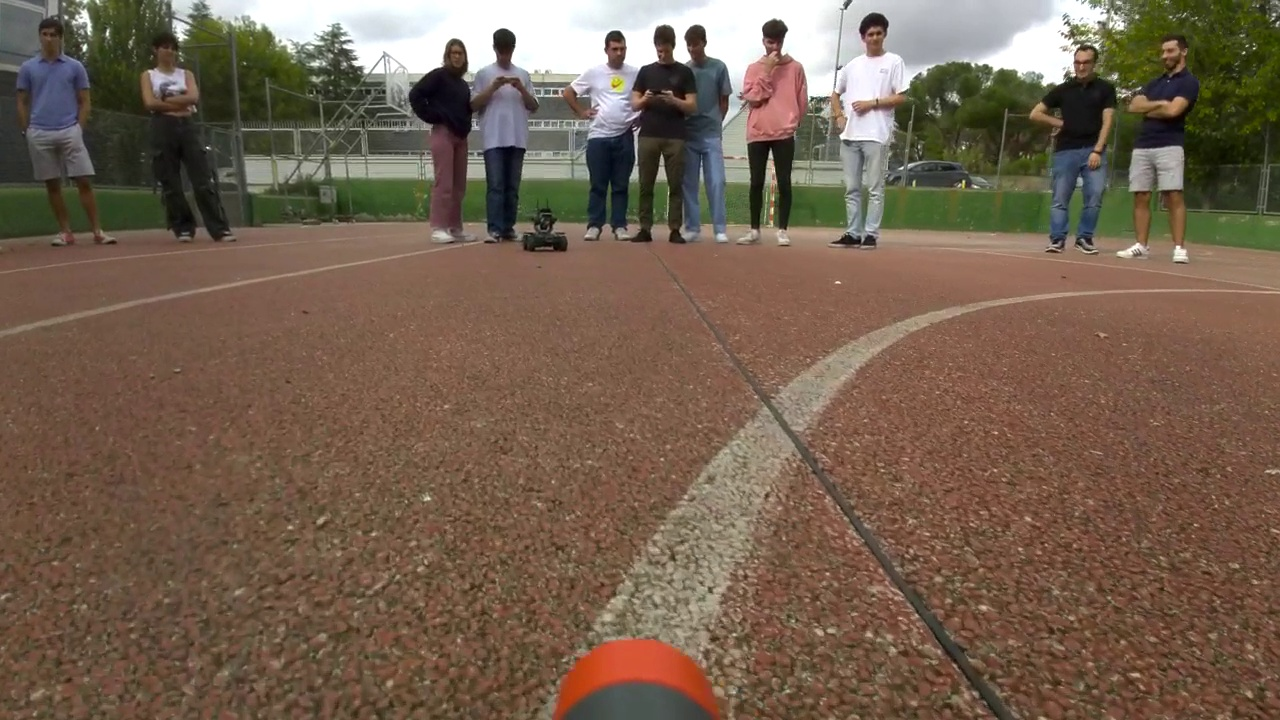robot: (522, 209, 565, 253)
